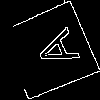A: (24, 26, 81, 76)
